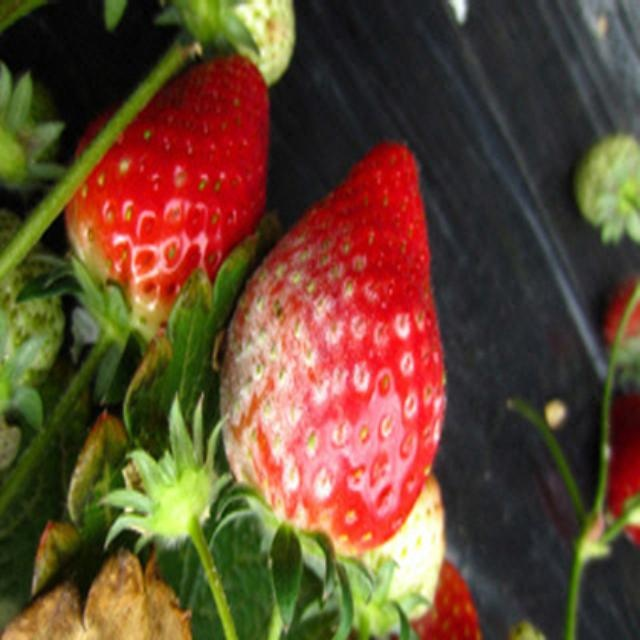Powdery Mildew Fruit: (216, 223, 446, 555)
